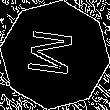M_E: (27, 29, 83, 81)
